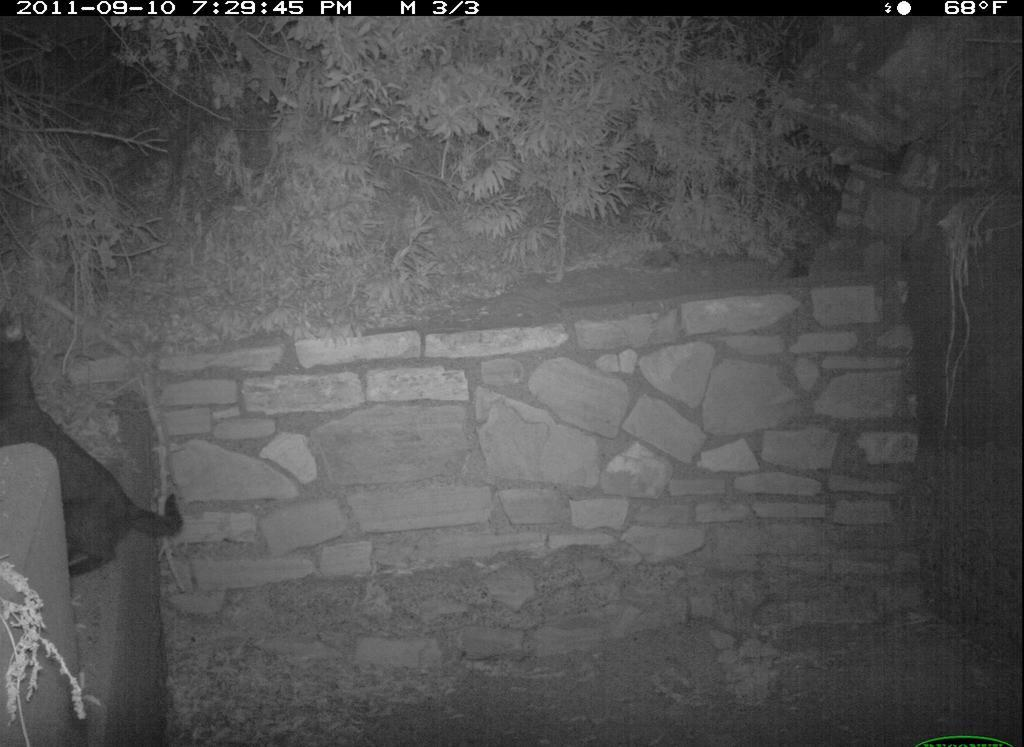cat: (1, 303, 190, 582)
